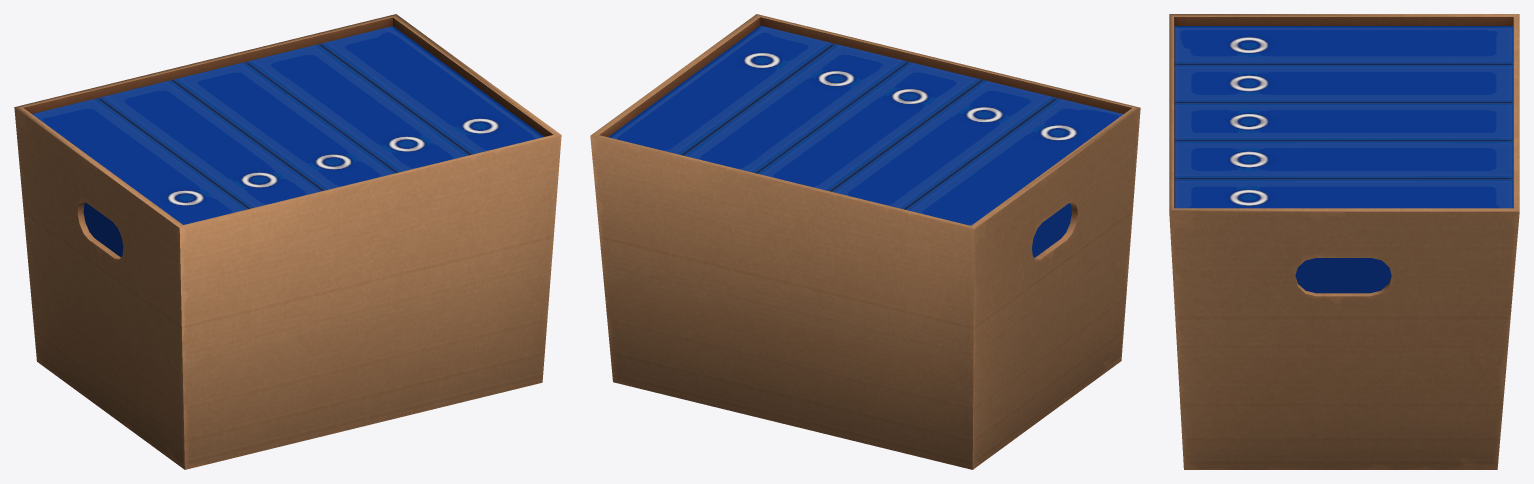
The model's file is OfficeBox01_3.FBX.
3 views of the same model, side by side, from view 1: azimuth 30°, elevation 25°; view 2: azimuth 150°, elevation 25°; view 3: azimuth 270°, elevation 25° (orthographic). The views are drawn at different scales.
Parts seen in each view (by area): view 1: OfficeBox01_3; view 2: OfficeBox01_3; view 3: OfficeBox01_3.
Boxes of the visible parts, x1,y1,x2,y2 form: OfficeBox01_3: (14, 14, 561, 469); OfficeBox01_3: (590, 14, 1140, 469); OfficeBox01_3: (1169, 14, 1519, 469).
Size of what is drawn, in the model's own units: 0.4 by 0.25 by 0.3.
